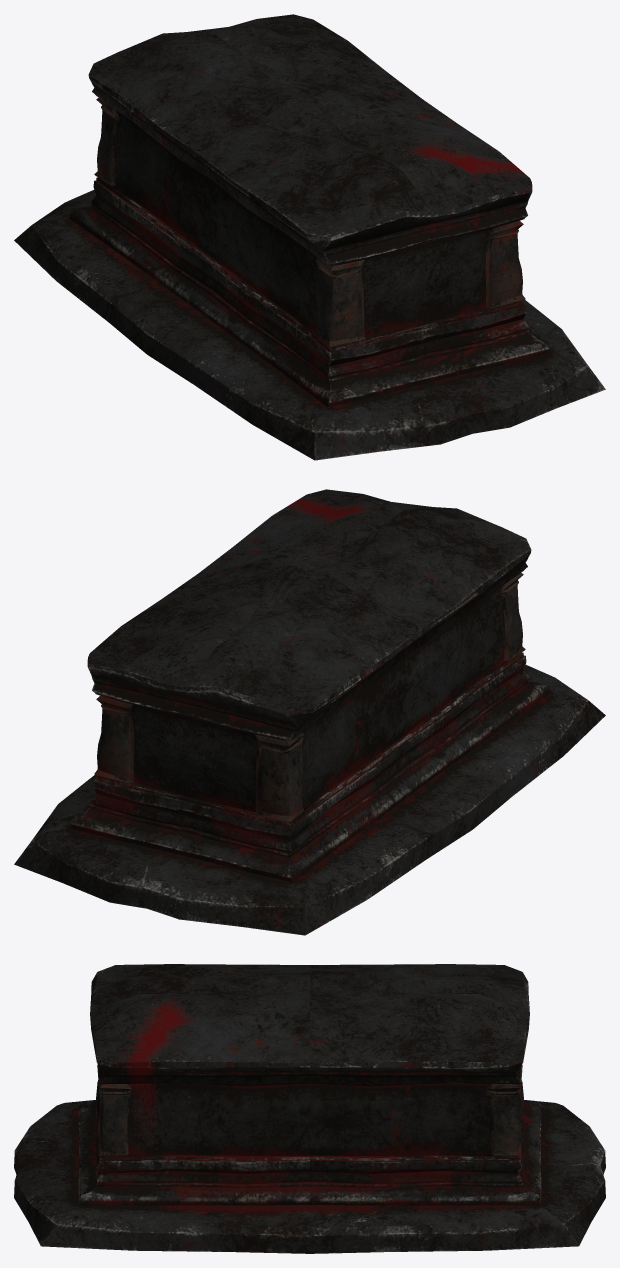
The model's file is sarcophagus_stone.glb.
The picture shows the model from 3 angles, top to bottom: view 1: azimuth 30°, elevation 25°; view 2: azimuth 150°, elevation 25°; view 3: azimuth 270°, elevation 25°; orthographic projection. The views are drawn at different scales.
Parts seen in each view (by area): view 1: defaultMaterial.001, defaultMaterial; view 2: defaultMaterial.001, defaultMaterial; view 3: defaultMaterial.001, defaultMaterial.
Boxes of the visible parts, bbox=[...] form: defaultMaterial.001: bbox=[14, 14, 605, 460]; defaultMaterial: bbox=[94, 97, 525, 347]; defaultMaterial.001: bbox=[14, 489, 605, 935]; defaultMaterial: bbox=[94, 572, 525, 822]; defaultMaterial.001: bbox=[14, 964, 605, 1253]; defaultMaterial: bbox=[98, 1082, 521, 1156].
Bounding box in the file's own units: 1.14 × 0.7358 × 2.
Materials: 2 (2 with a texture image).
